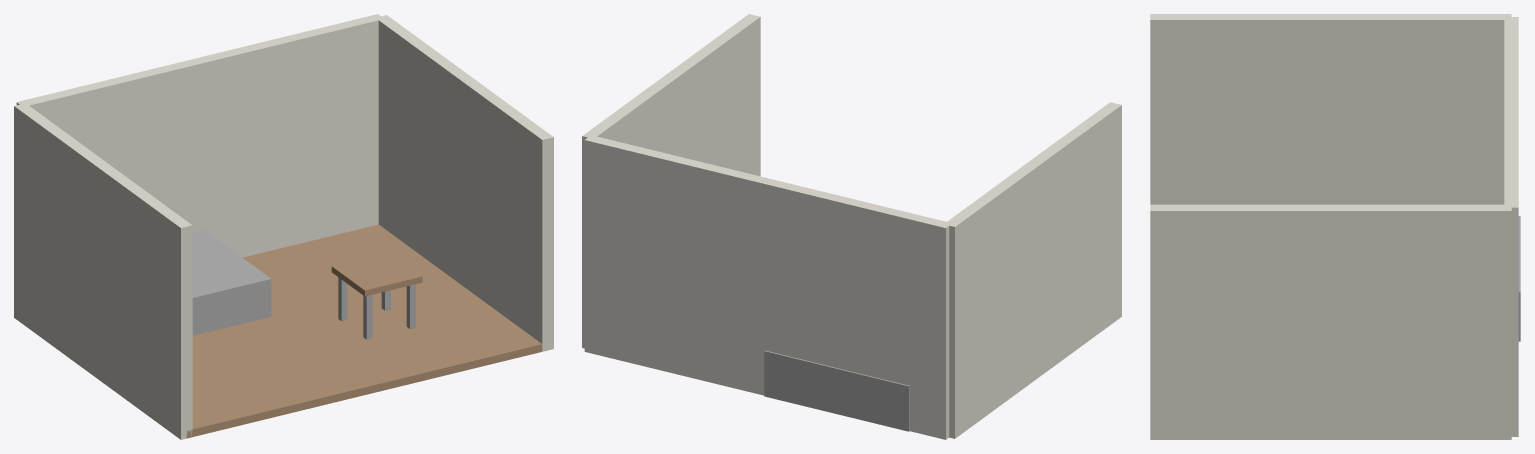
Rendered from safehouse_interior.glb.
3 views of the same model, side by side, from view 1: azimuth 30°, elevation 25°; view 2: azimuth 150°, elevation 25°; view 3: azimuth 270°, elevation 25° (orthographic). The views are drawn at different scales.
Parts seen in each view (by area): view 1: back, left, right, floor, bed, tabletop; view 2: back, left, right, bed; view 3: right, left, back, bed.
Boxes of the visible parts, x1,y1,x2,y2 form: back: (16, 14, 383, 257); left: (14, 103, 192, 439); right: (376, 15, 553, 351); floor: (186, 224, 542, 438); bed: (192, 229, 271, 335); tabletop: (331, 252, 422, 296); back: (584, 135, 951, 439); left: (947, 102, 1121, 438); right: (582, 14, 760, 348); bed: (764, 350, 909, 431); right: (1150, 204, 1511, 439); left: (1150, 14, 1511, 204); back: (1504, 17, 1518, 436); bed: (1518, 216, 1520, 341).
Bounding box in the file's own units: 5.16 × 2.8 × 4.1.
